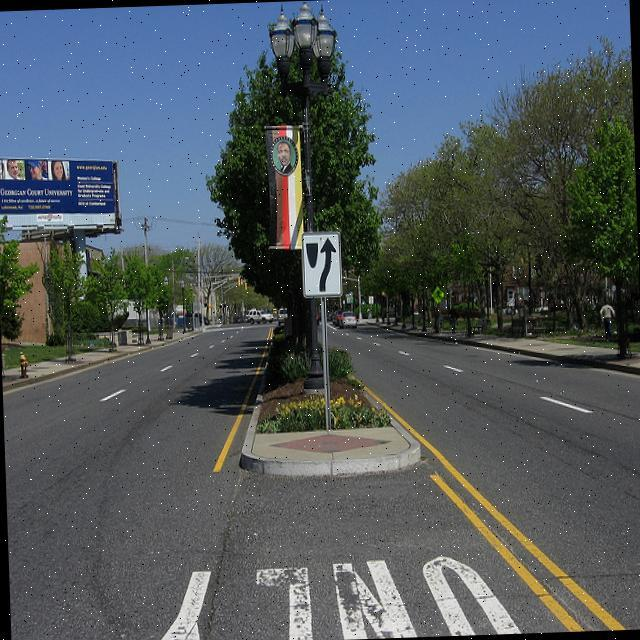fire_hydrant: (18, 351, 28, 378)
